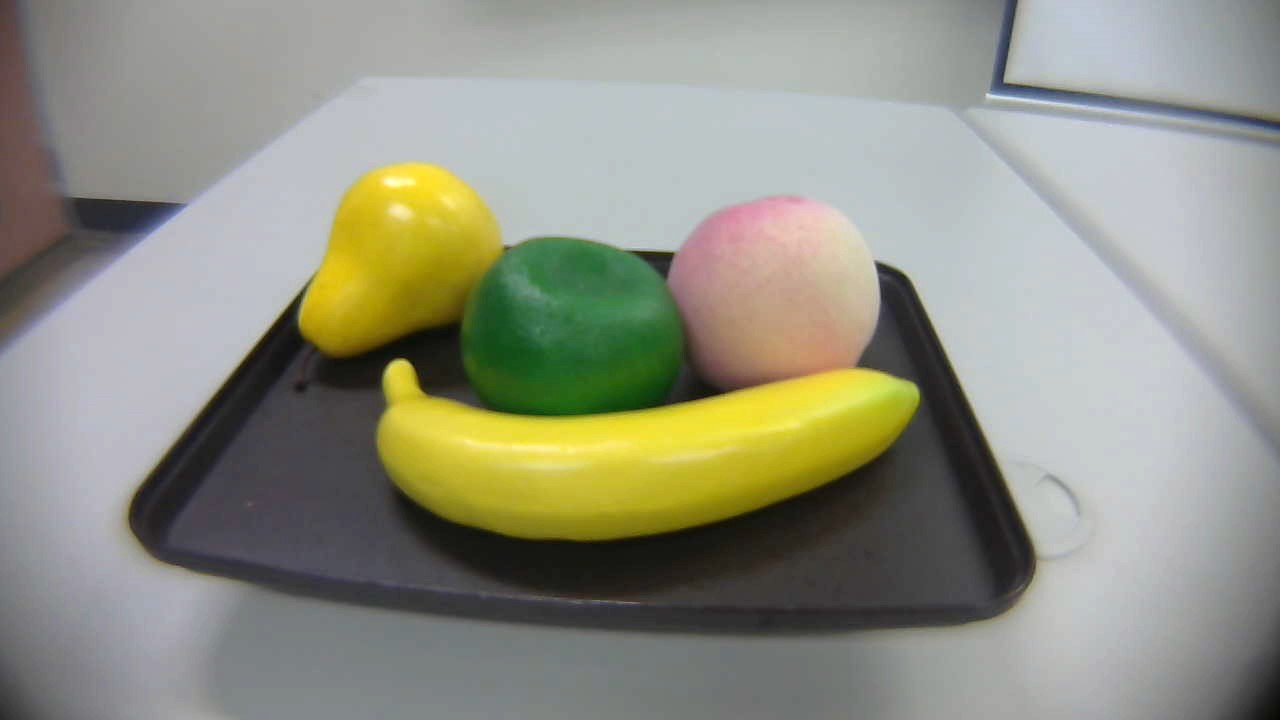banana: (356, 341, 939, 549)
green orange: (457, 234, 695, 424)
peach: (659, 186, 896, 388)
yellow pear: (279, 151, 510, 400)
